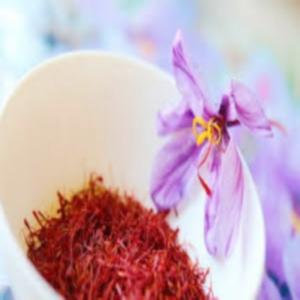Saffron: (157, 30, 274, 255)
